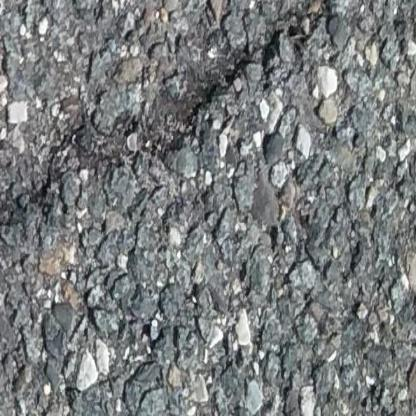Cracks: (0, 0, 335, 237)
